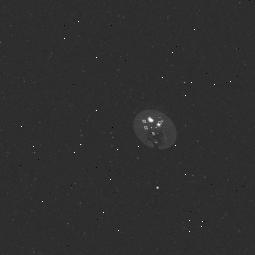proba_3_ocs: (126, 99, 194, 157)
